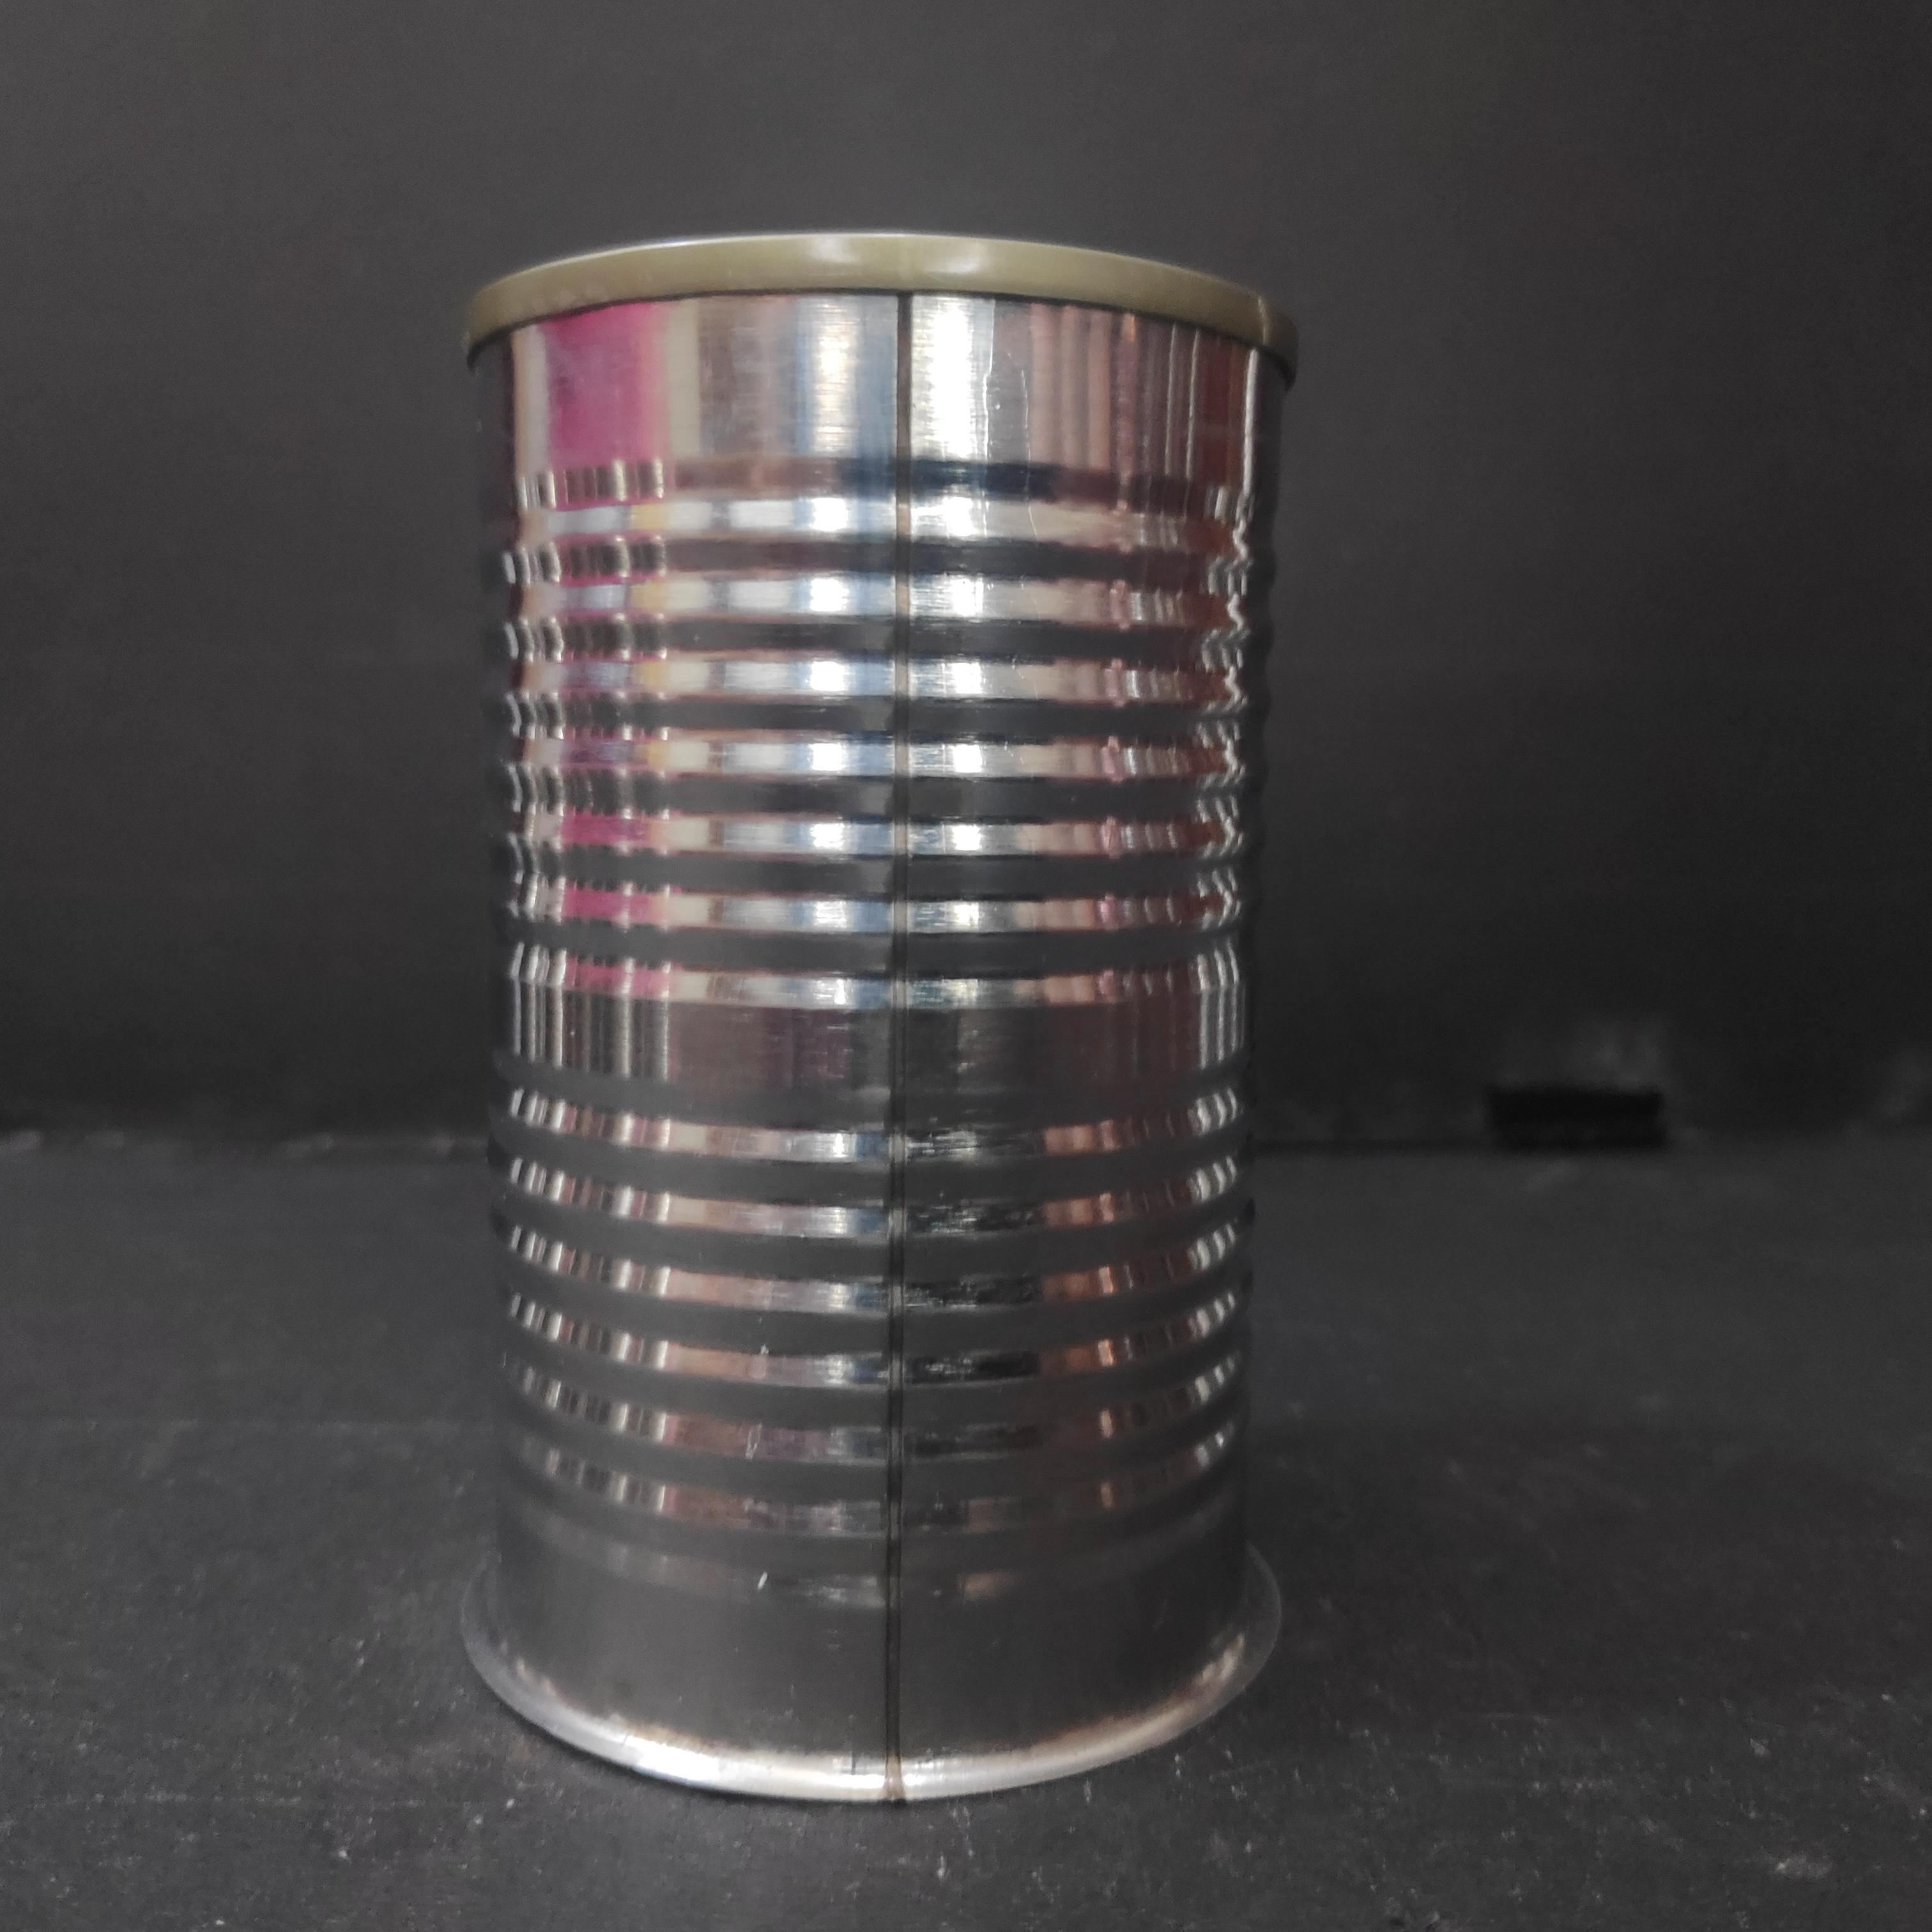No defect: (452, 211, 1310, 1823)
